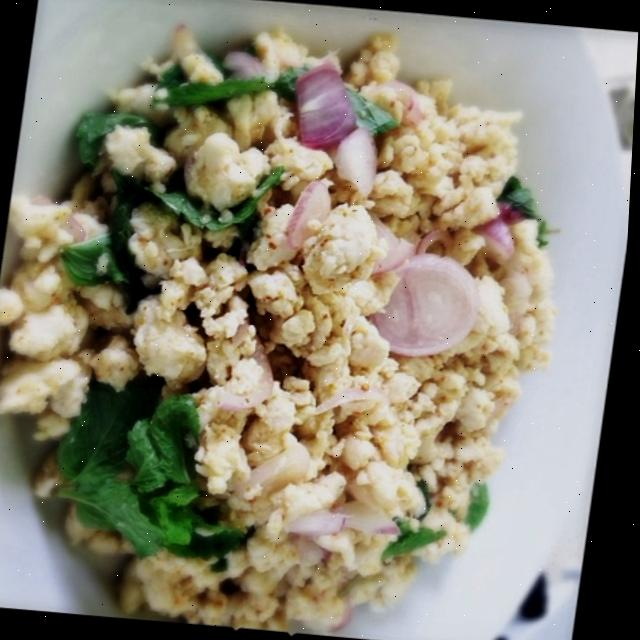鸡肉料理 含炸鸡: (0, 4, 621, 640)
